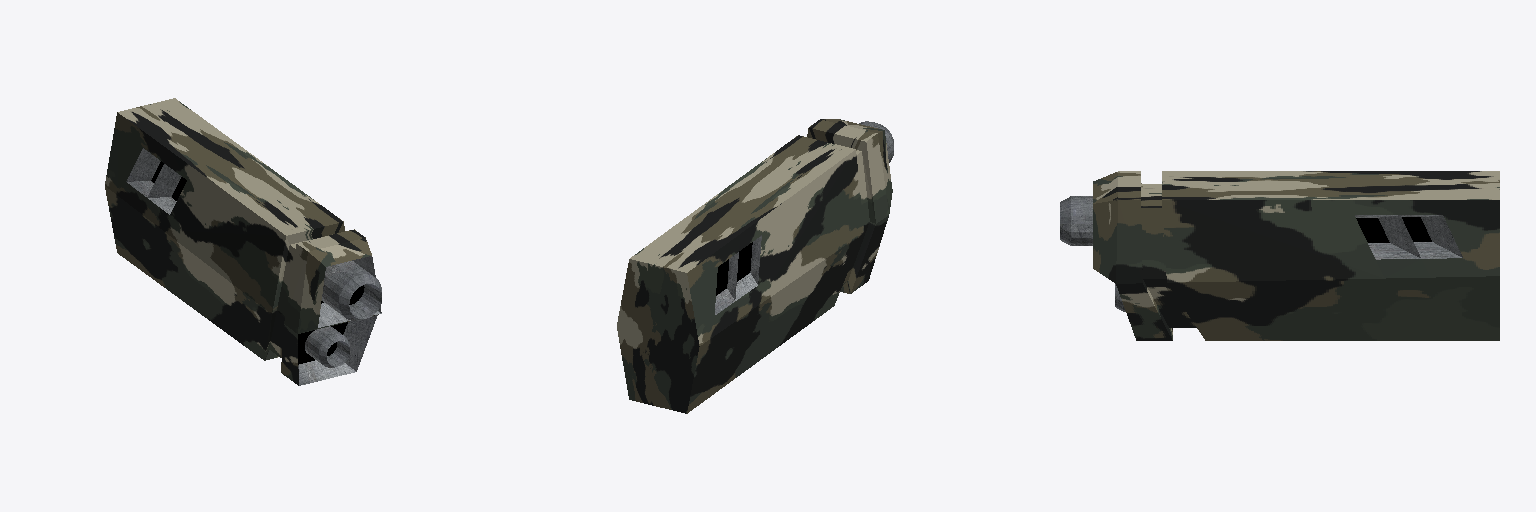
3 renders of one model, left to right at view 1: azimuth 30°, elevation 25°; view 2: azimuth 150°, elevation 25°; view 3: azimuth 270°, elevation 25°, orthographic.
Parts seen in each view (by area): view 1: pCylinder18; view 2: pCylinder18; view 3: pCylinder18.
Part boxes in pixels (x1,y1,x2,y2): pCylinder18: (105,98,381,385); pCylinder18: (617,119,893,413); pCylinder18: (1060,171,1499,340).
Bounding box in the file's own units: 0.928 × 1.51 × 4.26.
Materials: 1 (1 with a texture image).